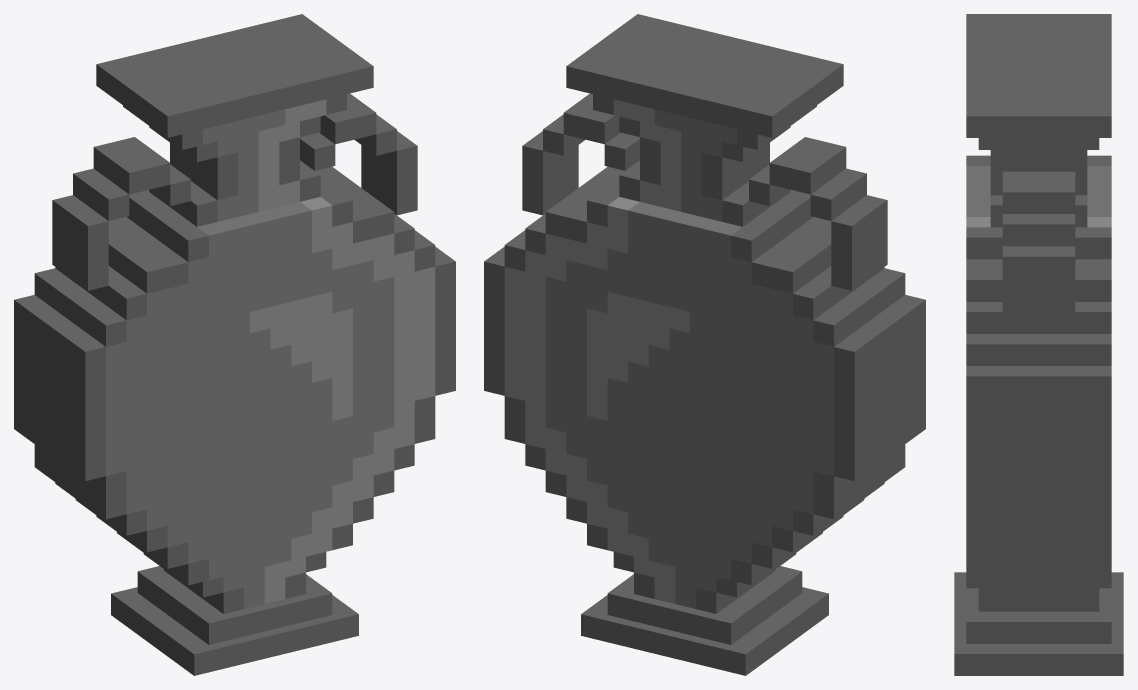
The model's file is XtraVase3.fbx.
The picture shows the model from 3 angles, left to right: view 1: azimuth 30°, elevation 25°; view 2: azimuth 150°, elevation 25°; view 3: azimuth 270°, elevation 25°; orthographic projection.
Visible parts, largest first — view 1: generated; view 2: generated; view 3: generated.
Part boxes in pixels (x1=…): generated: x1=14, y1=14, x2=455, y2=675; generated: x1=484, y1=14, x2=925, y2=675; generated: x1=954, y1=14, x2=1123, y2=675.
Bounding box in the file's own units: 18 × 26 × 7.
